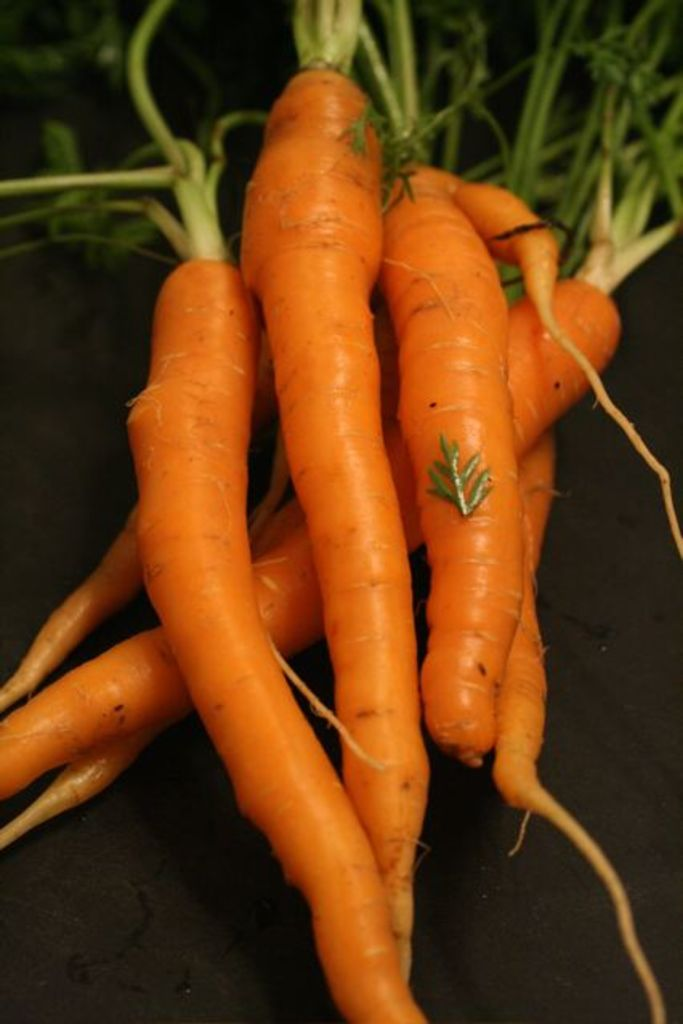Carrot: (0, 150, 681, 1022), (238, 0, 407, 987), (234, 65, 410, 990)
